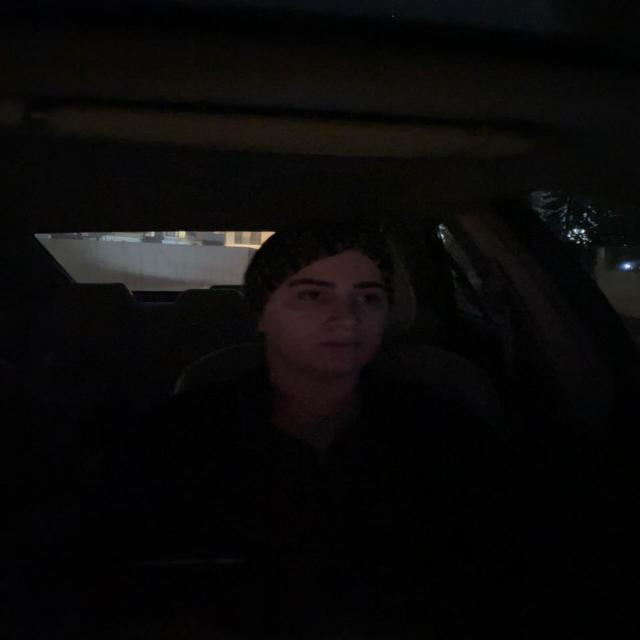person: (242, 209, 396, 380)
